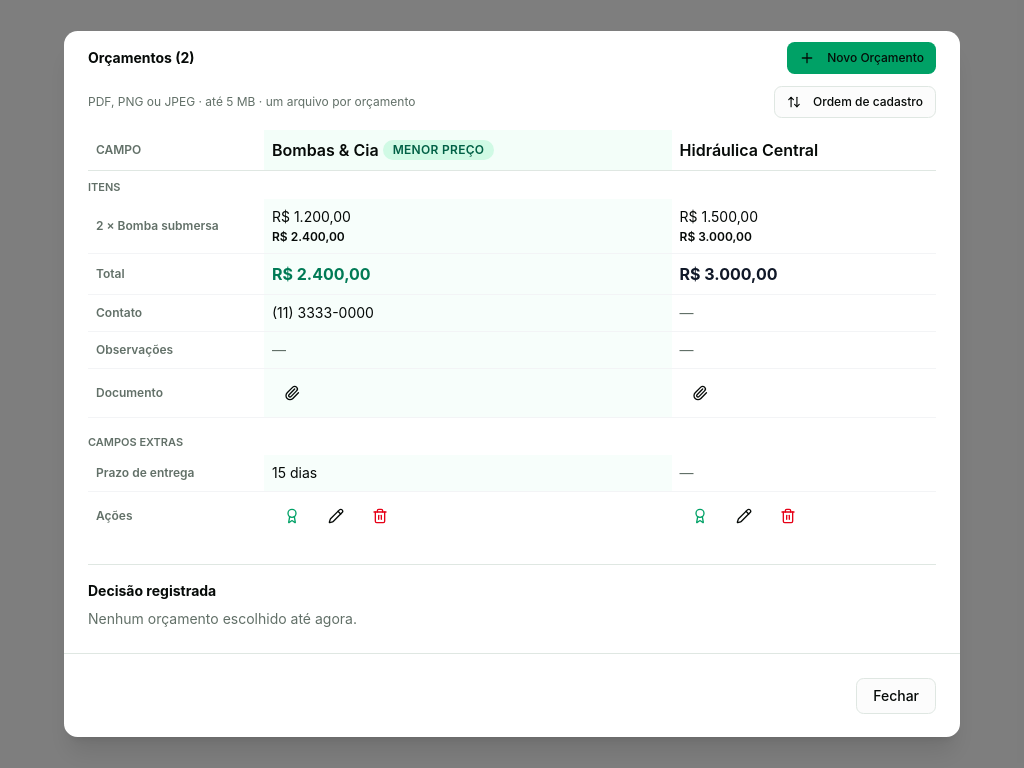
PurchaseRequestDetailModal › states the gap against the lowest quote when a dearer one is chosen
(page scrolled)
# The second column is Hidráulica Central at 3000, against 2400.
What coordinates should you click on to do the following:
click the 2nd button titled "Escolher este Orçamento"
I would click on:
 (700, 516)
Its box is [680,500,720,532].
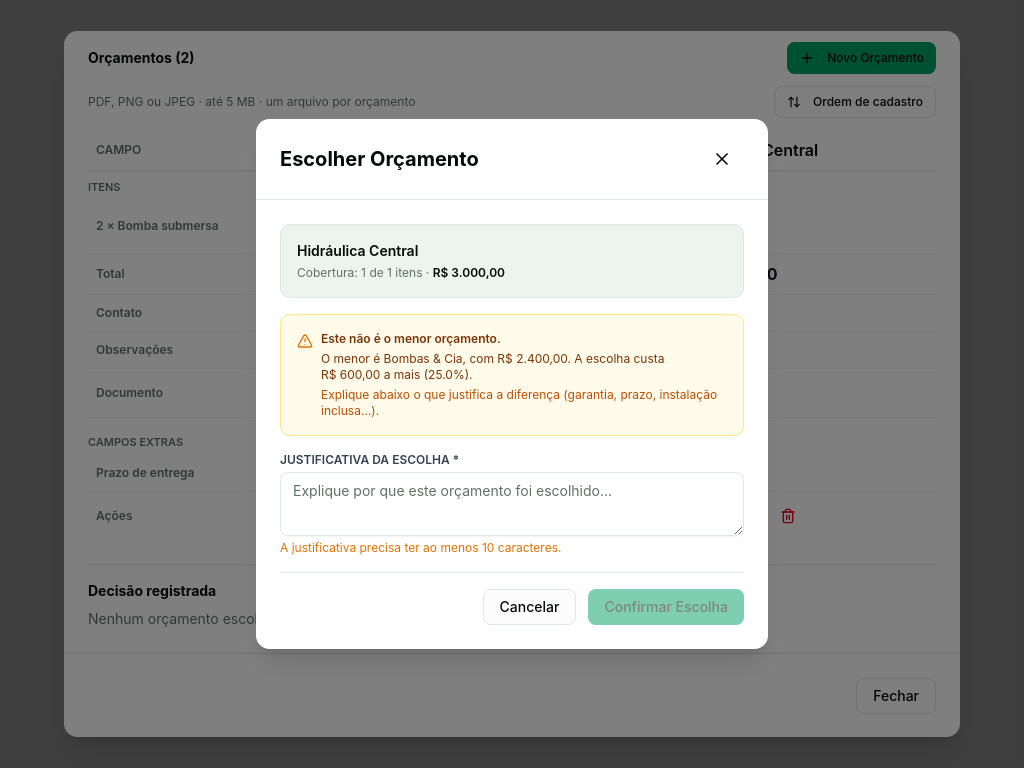
Check: the element with test id "decision-gap" shows "Este não é o menor orçamento.", box [321,331,501,346]
Check: the element with test id "decision-gap" shows "Bombas & Cia", box [321,351,664,382]
Check: the element with test id "decision-gap" shows "R$ 600,00", box [321,351,664,382]
